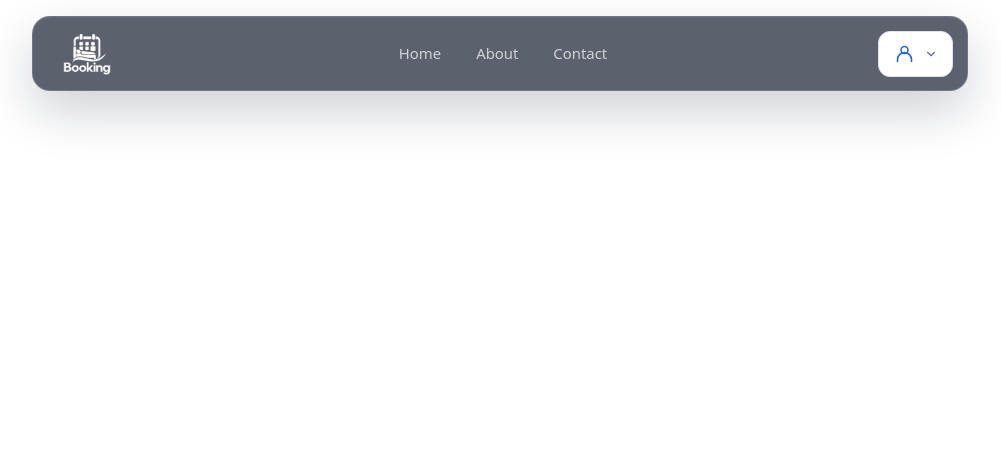
Test: HeaderComponent › replaces Login with an account dropdown when a user signs in
The width and height of the screenshot is (1001, 451).
Click the button with class "account-trigger". click: (916, 54)
box: 878,30 -> 953,76
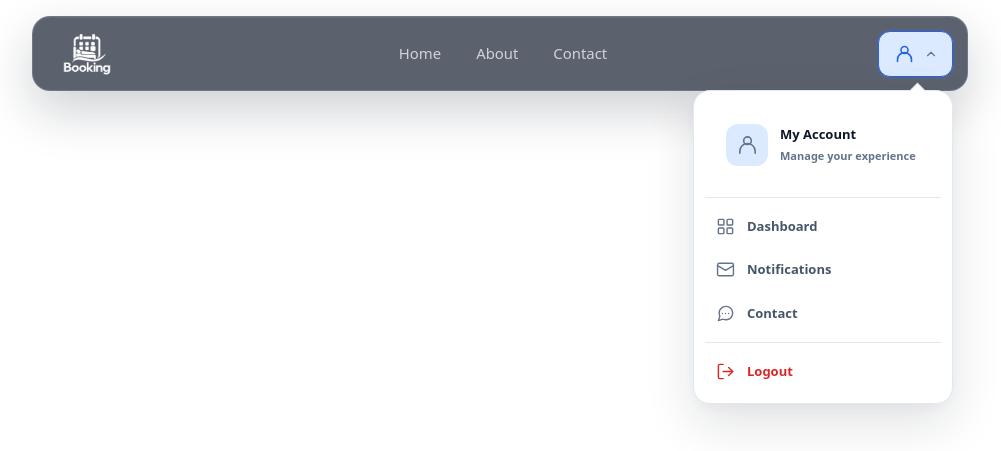
Result: the navigation bar with class "account-dropdown" is shown at 693,90 -> 953,404
Result: the link to "/dashboard" is shown at 716,216 -> 818,236
Result: the text "Dashboard" is shown at 747,216 -> 818,236
